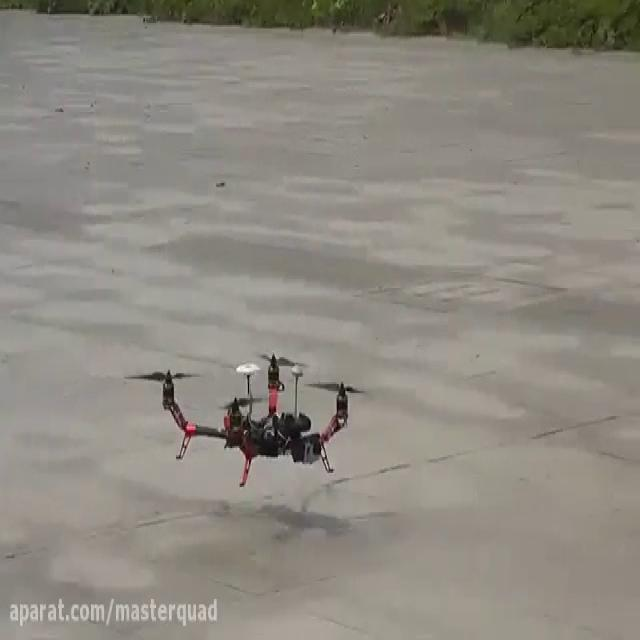drone: (118, 341, 366, 491)
